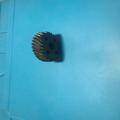gear: (31, 30, 62, 63)
